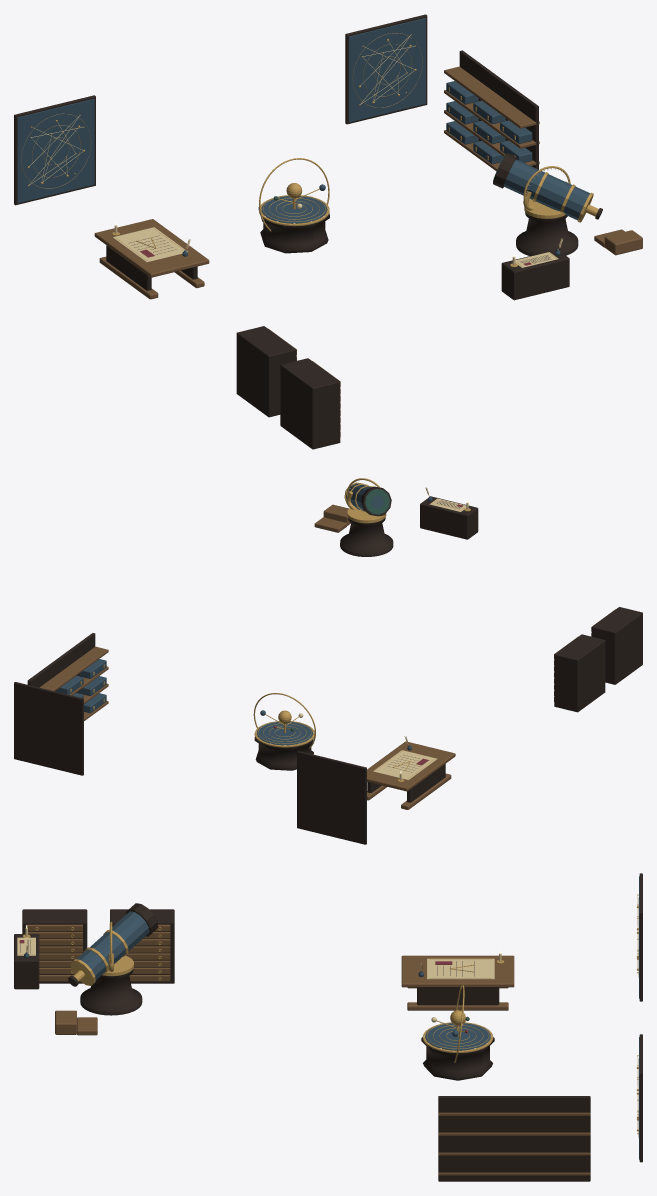
The model's file is observatory.glb.
3 renders of one model, top to bottom at view 1: azimuth 30°, elevation 25°; view 2: azimuth 150°, elevation 25°; view 3: azimuth 270°, elevation 25°, orthographic. The views are drawn at different scales.
Visible parts, largest first — view 1: Crafted assembly 002, Crafted assembly 009, Crafted assembly 000, Crafted assembly 013, Crafted assembly 020, Crafted assembly 008, Crafted assembly 001, Crafted assembly 019, Crafted assembly 007, Crafted assembly 018, Crafted assembly 004, Crafted assembly 005; view 2: Crafted assembly 009, Crafted assembly 000, Crafted assembly 008, Crafted assembly 001, Crafted assembly 002, Crafted assembly 019, Crafted assembly 020, Crafted assembly 018, Crafted assembly 007, Crafted assembly 005; view 3: Crafted assembly 018, Crafted assembly 008, Crafted assembly 000, Crafted assembly 009, Crafted assembly 002, Crafted assembly 001, Crafted assembly 019, Crafted assembly 007, Crafted assembly 005, Crafted assembly 004.
Boxes of the visible parts, x1,y1,x2,y2 form: Crafted assembly 002: [261, 18, 589, 255]; Crafted assembly 009: [14, 95, 340, 449]; Crafted assembly 000: [258, 14, 602, 300]; Crafted assembly 013: [17, 99, 187, 256]; Crafted assembly 020: [446, 81, 532, 164]; Crafted assembly 008: [94, 219, 340, 436]; Crafted assembly 001: [259, 39, 598, 267]; Crafted assembly 019: [444, 66, 539, 171]; Crafted assembly 007: [29, 116, 278, 262]; Crafted assembly 018: [459, 50, 538, 169]; Crafted assembly 004: [264, 35, 570, 267]; Crafted assembly 005: [594, 229, 642, 255]; Crafted assembly 009: [297, 607, 642, 844]; Crafted assembly 000: [14, 486, 478, 775]; Crafted assembly 008: [367, 609, 615, 809]; Crafted assembly 001: [253, 478, 470, 748]; Crafted assembly 002: [257, 483, 432, 745]; Crafted assembly 019: [40, 646, 108, 720]; Crafted assembly 020: [56, 659, 106, 713]; Crafted assembly 018: [27, 633, 95, 693]; Crafted assembly 007: [298, 732, 437, 780]; Crafted assembly 005: [314, 504, 350, 532]; Crafted assembly 018: [438, 1096, 590, 1181]; Crafted assembly 008: [27, 924, 514, 1010]; Crafted assembly 000: [14, 903, 642, 1162]; Crafted assembly 009: [22, 873, 642, 1005]; Crafted assembly 002: [24, 911, 639, 1159]; Crafted assembly 001: [18, 921, 638, 1131]; Crafted assembly 019: [438, 1112, 590, 1175]; Crafted assembly 007: [421, 895, 637, 1024]; Crafted assembly 005: [55, 1010, 97, 1035]; Crafted assembly 004: [17, 923, 637, 1128].
Size of what is drawn, in the model's own units: 17.77 by 7.4 by 22.31.
